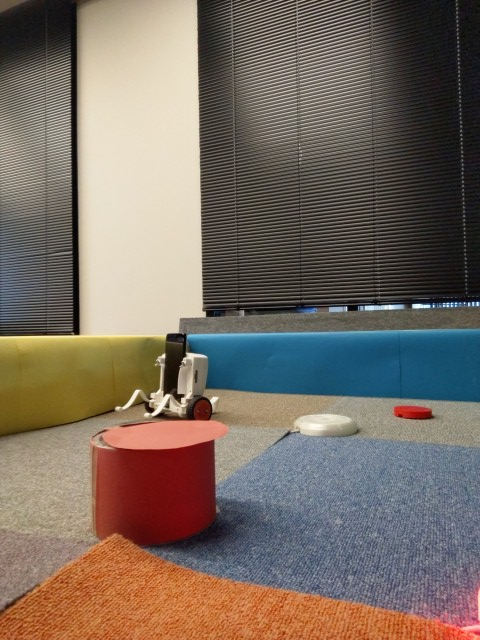bl: (110, 331, 223, 424)
o: (286, 410, 359, 441)
